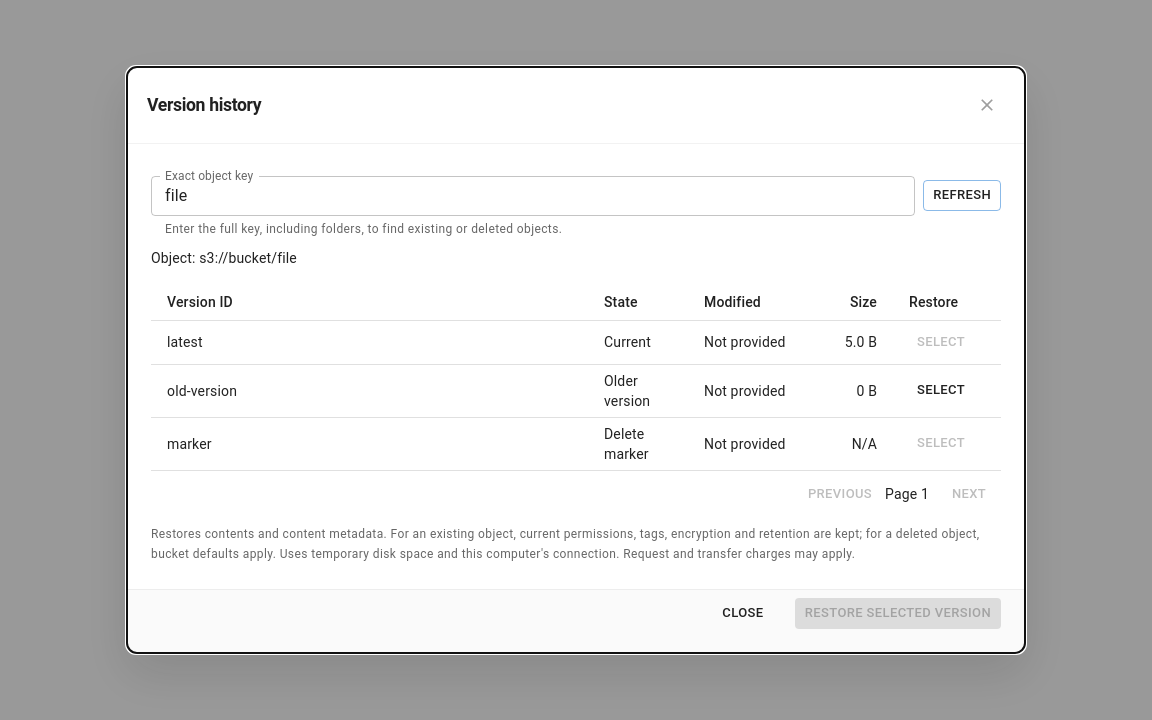
Scenario: stale restore failure discards history and requires fresh confirmation
The width and height of the screenshot is (1152, 720).
Expected: the text "old-version" is shown, [167,383,237,399]
Click the button named "Select version old-version". click: (941, 391)
box: [909,375,973,406]
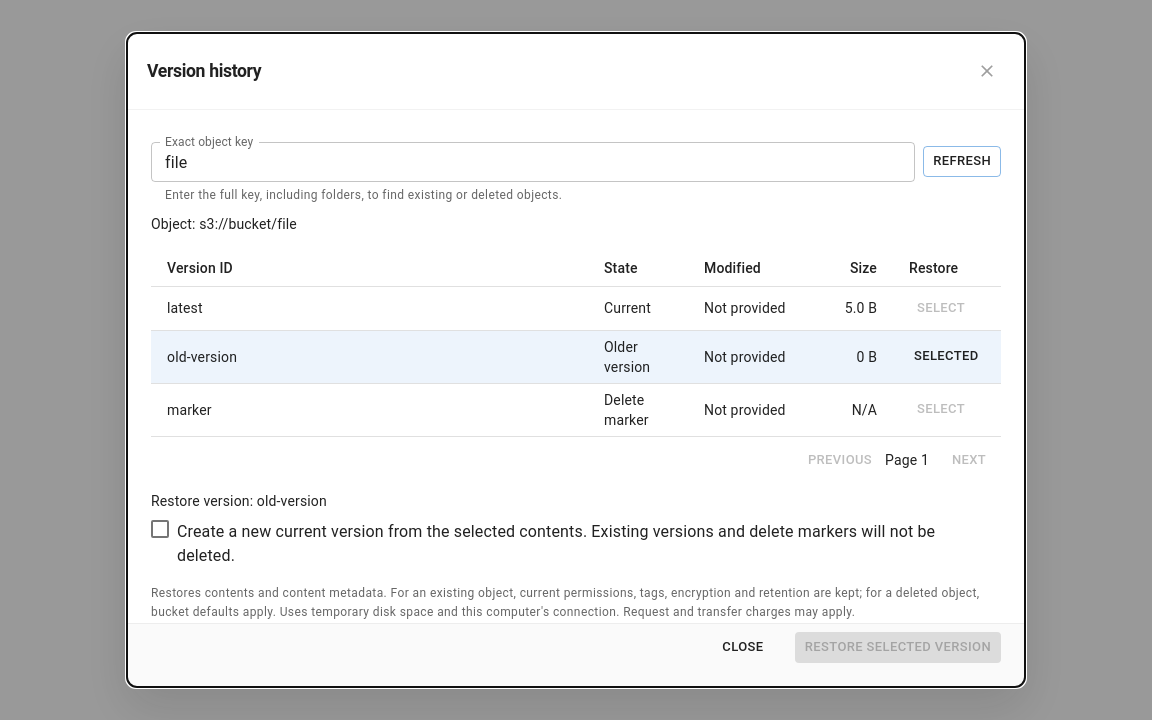
Click the checkbox. click: (568, 544)
box: [151,520,985,568]
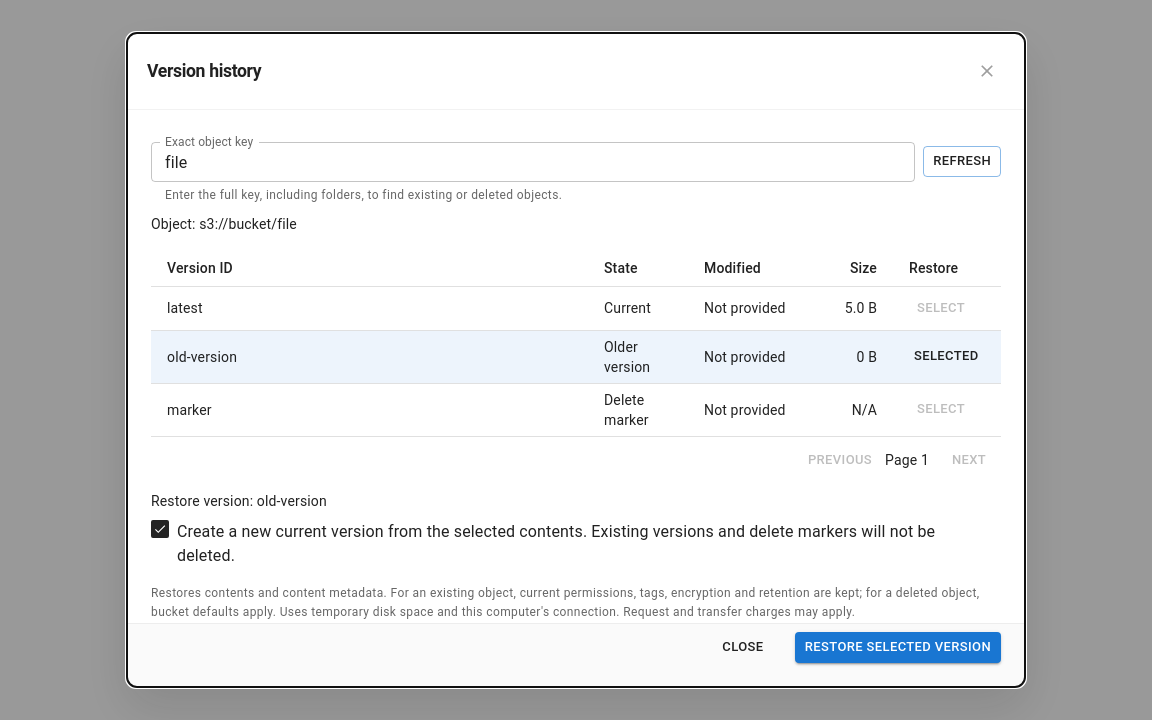
Click the button "Restore selected version". click: (898, 648)
box: [795,632,1001,663]
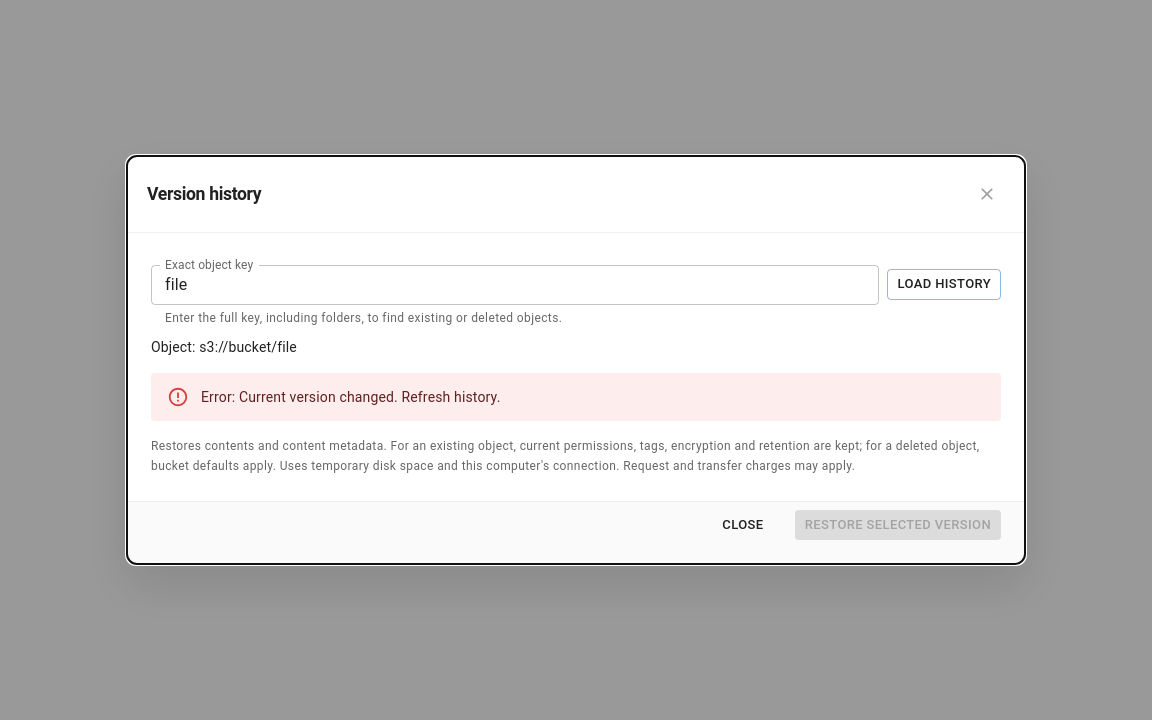
Now the text "Error: Current version changed. Refresh history." is shown, box [201,389,500,405]
Now the checkbox is gone
Now the table is gone
